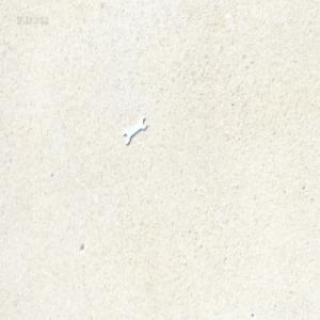Wrenchtrack_idkeyframe: (121, 115, 145, 145)
